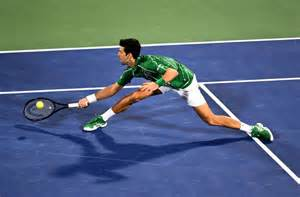tennis_ball: (35, 100, 45, 110)
